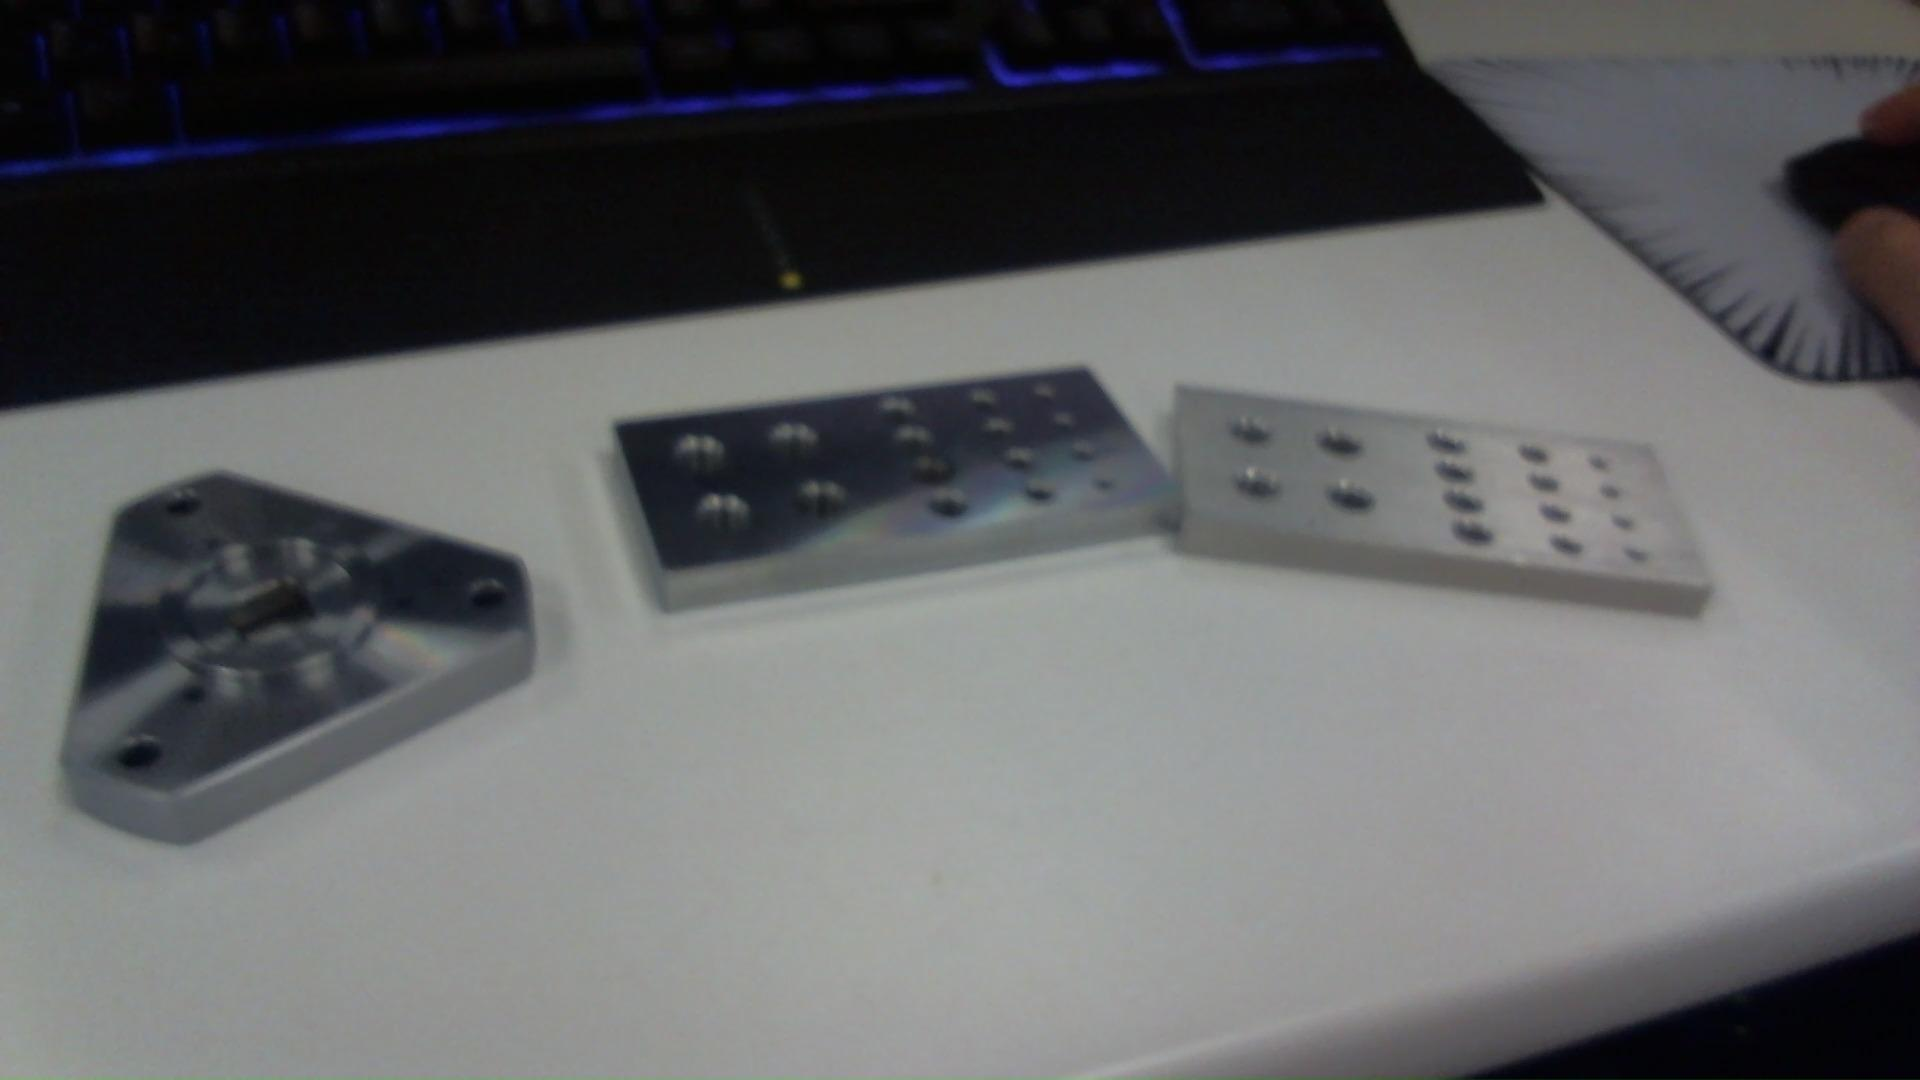hole: (662, 425, 735, 483), (691, 491, 757, 537), (761, 411, 822, 458), (105, 737, 166, 781), (1319, 479, 1379, 522), (791, 479, 852, 521), (1229, 463, 1287, 505), (1225, 415, 1279, 459), (1307, 427, 1369, 460), (905, 454, 959, 491), (1443, 510, 1491, 550), (922, 491, 975, 522), (154, 493, 207, 522), (463, 580, 513, 611), (1017, 483, 1059, 517), (889, 419, 932, 452), (1433, 454, 1476, 487), (1424, 425, 1472, 454), (165, 684, 208, 715), (869, 394, 913, 425), (963, 386, 1000, 418), (1513, 440, 1553, 468), (1443, 489, 1482, 517), (1545, 529, 1580, 559), (1527, 469, 1565, 496), (1538, 502, 1578, 525), (1614, 543, 1651, 567), (384, 589, 418, 613), (1001, 458, 1042, 476), (981, 418, 1009, 440), (1606, 510, 1634, 533), (1588, 454, 1611, 476), (1596, 483, 1621, 504)
